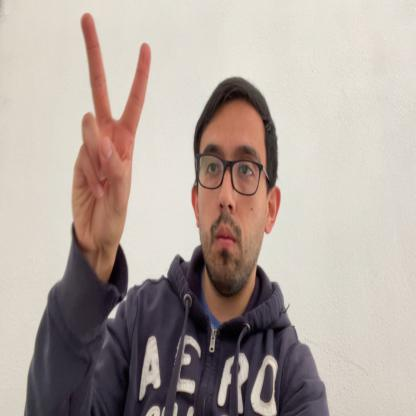V: (71, 12, 150, 262)
